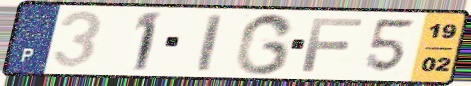1: (132, 10, 165, 73)
3: (50, 9, 109, 71)
5: (362, 16, 419, 76)
F: (299, 17, 367, 74)
G: (232, 11, 298, 77)
I: (196, 12, 225, 73)
